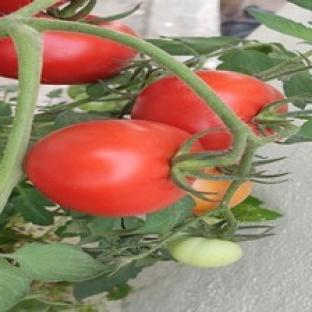Tomato: (26, 120, 189, 215), (131, 76, 232, 150), (41, 31, 137, 84), (169, 236, 242, 267), (191, 179, 231, 214)
